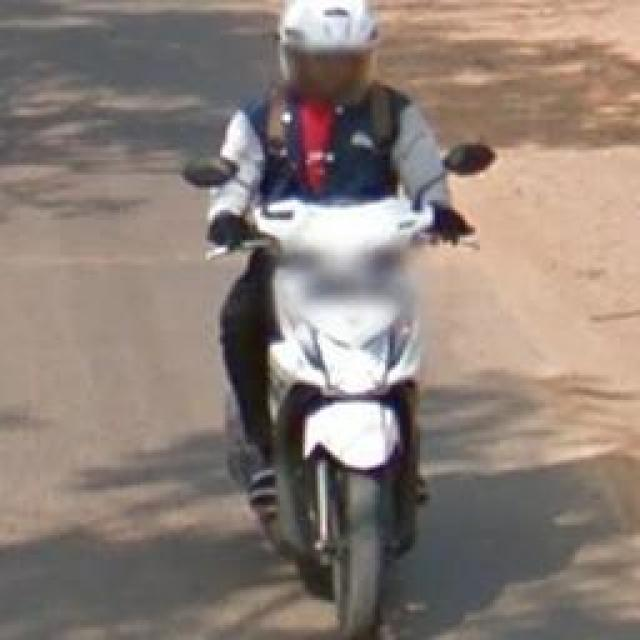motorbike: (212, 0, 473, 640)
